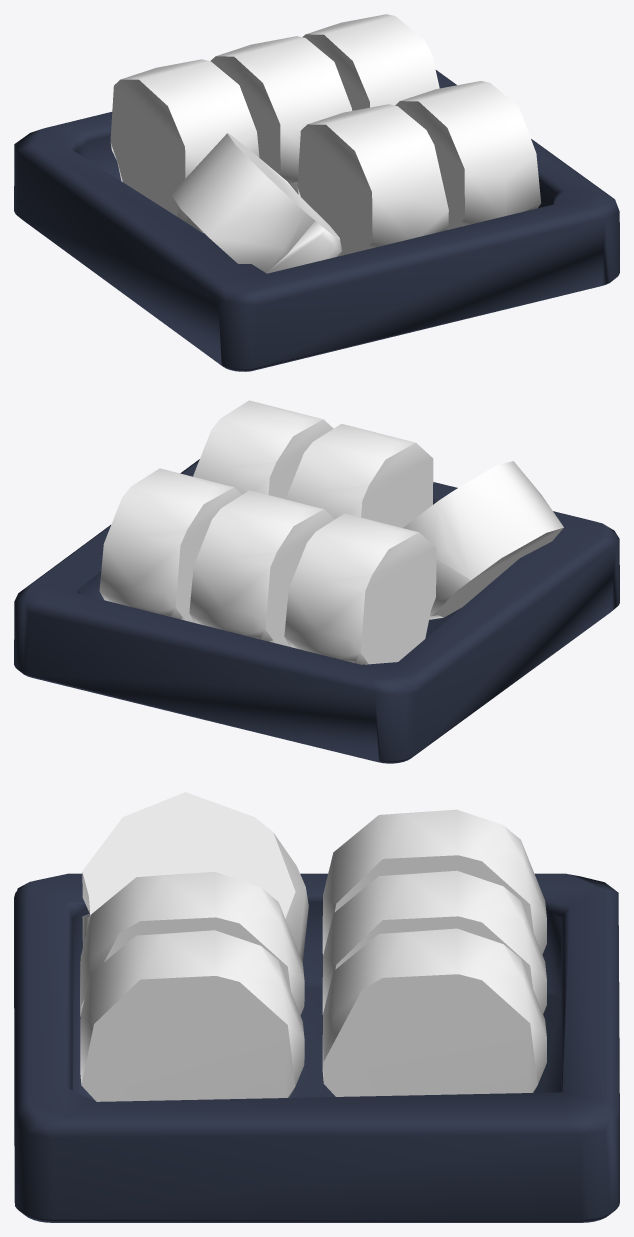
File: pack.glb
3 renders of one model, top to bottom at view 1: azimuth 30°, elevation 25°; view 2: azimuth 150°, elevation 25°; view 3: azimuth 270°, elevation 25°, orthographic. The views are drawn at different scales.
Visible parts, largest first — view 1: pack_food, pack_box; view 2: pack_food, pack_box; view 3: pack_food, pack_box.
Part boxes in pixels (<box>): pack_food: <box>110,14,540,273</box>; pack_box: <box>14,70,619,371</box>; pack_food: <box>99,400,563,664</box>; pack_box: <box>14,459,619,763</box>; pack_food: <box>80,792,546,1101</box>; pack_box: <box>14,873,619,1222</box>.
Size of the model in its own units: 0.62 by 0.251 by 0.62.
